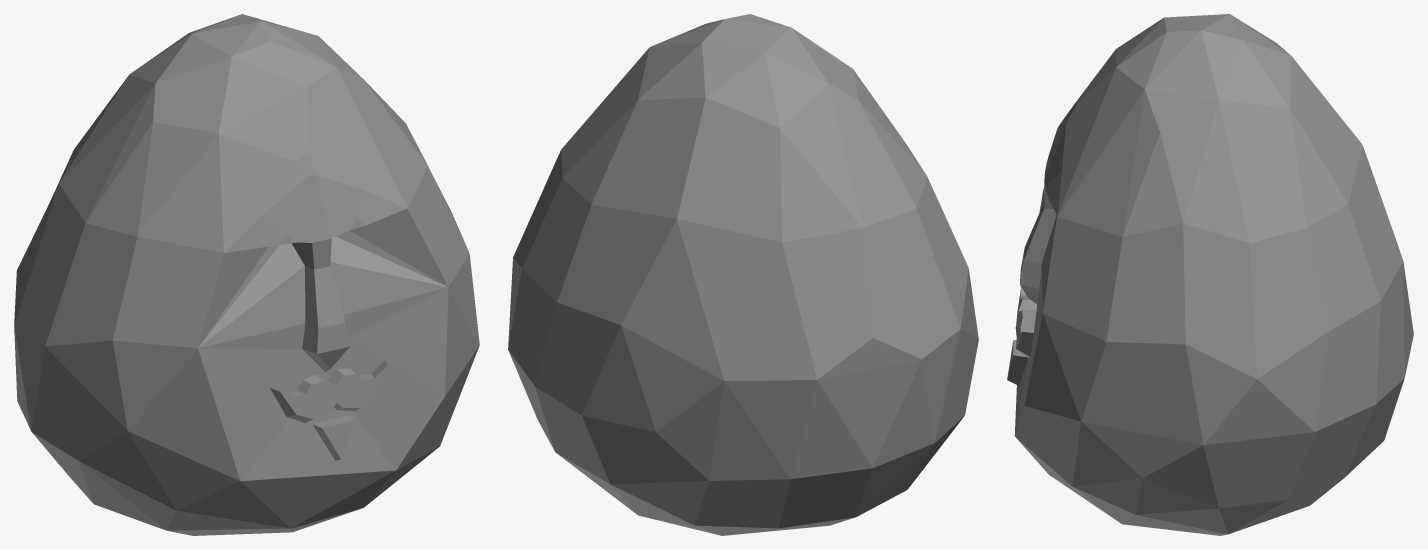
Rendered from Statue_2.fbx.
3 views of the same model, side by side, from view 1: azimuth 30°, elevation 25°; view 2: azimuth 150°, elevation 25°; view 3: azimuth 270°, elevation 25° (orthographic).
Parts seen in each view (by area): view 1: Statue_2; view 2: Statue_2; view 3: Statue_2.
Part boxes in pixels (x1,y1,x2,y2): Statue_2: (14,14,479,535); Statue_2: (508,14,978,535); Statue_2: (1007,14,1413,535).
Bounding box in the file's own units: 133 × 149 × 113.
